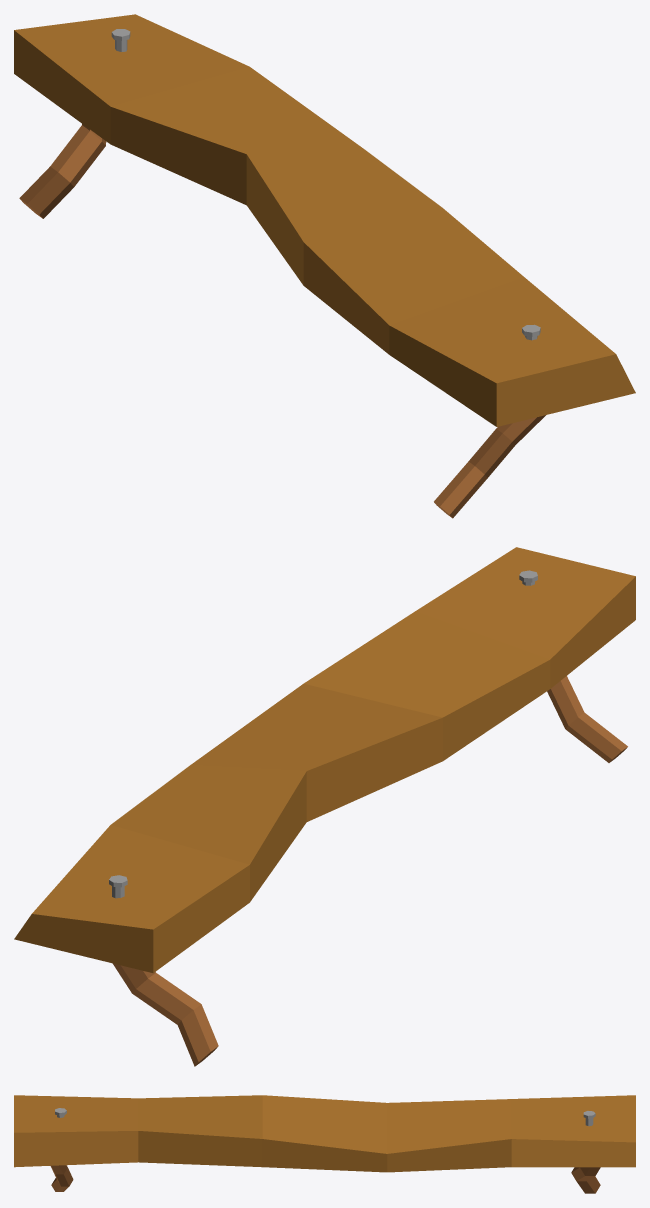
Rendered from shelf_small_1.fbx.
3 renders of one model, top to bottom at view 1: azimuth 30°, elevation 25°; view 2: azimuth 150°, elevation 25°; view 3: azimuth 270°, elevation 25°, orthographic. The views are drawn at different scales.
Visible parts, largest first — view 1: Cube, Cylinder.003, Cylinder.002; view 2: Cube, Cylinder.003, Cylinder.002; view 3: Cube, Cylinder.003, Cylinder.002.
Part boxes in pixels (box(x1,y1,x2,y2)): Cube: box(14, 14, 635, 426); Cylinder.003: box(19, 124, 106, 218); Cylinder.002: box(434, 415, 545, 518); Cube: box(14, 547, 635, 973); Cylinder.003: box(112, 963, 218, 1066); Cylinder.002: box(547, 676, 627, 762); Cube: box(14, 1095, 635, 1172); Cylinder.003: box(571, 1167, 600, 1193); Cylinder.002: box(50, 1165, 73, 1191).
Bounding box in the file's own units: 131 × 116 × 600.
